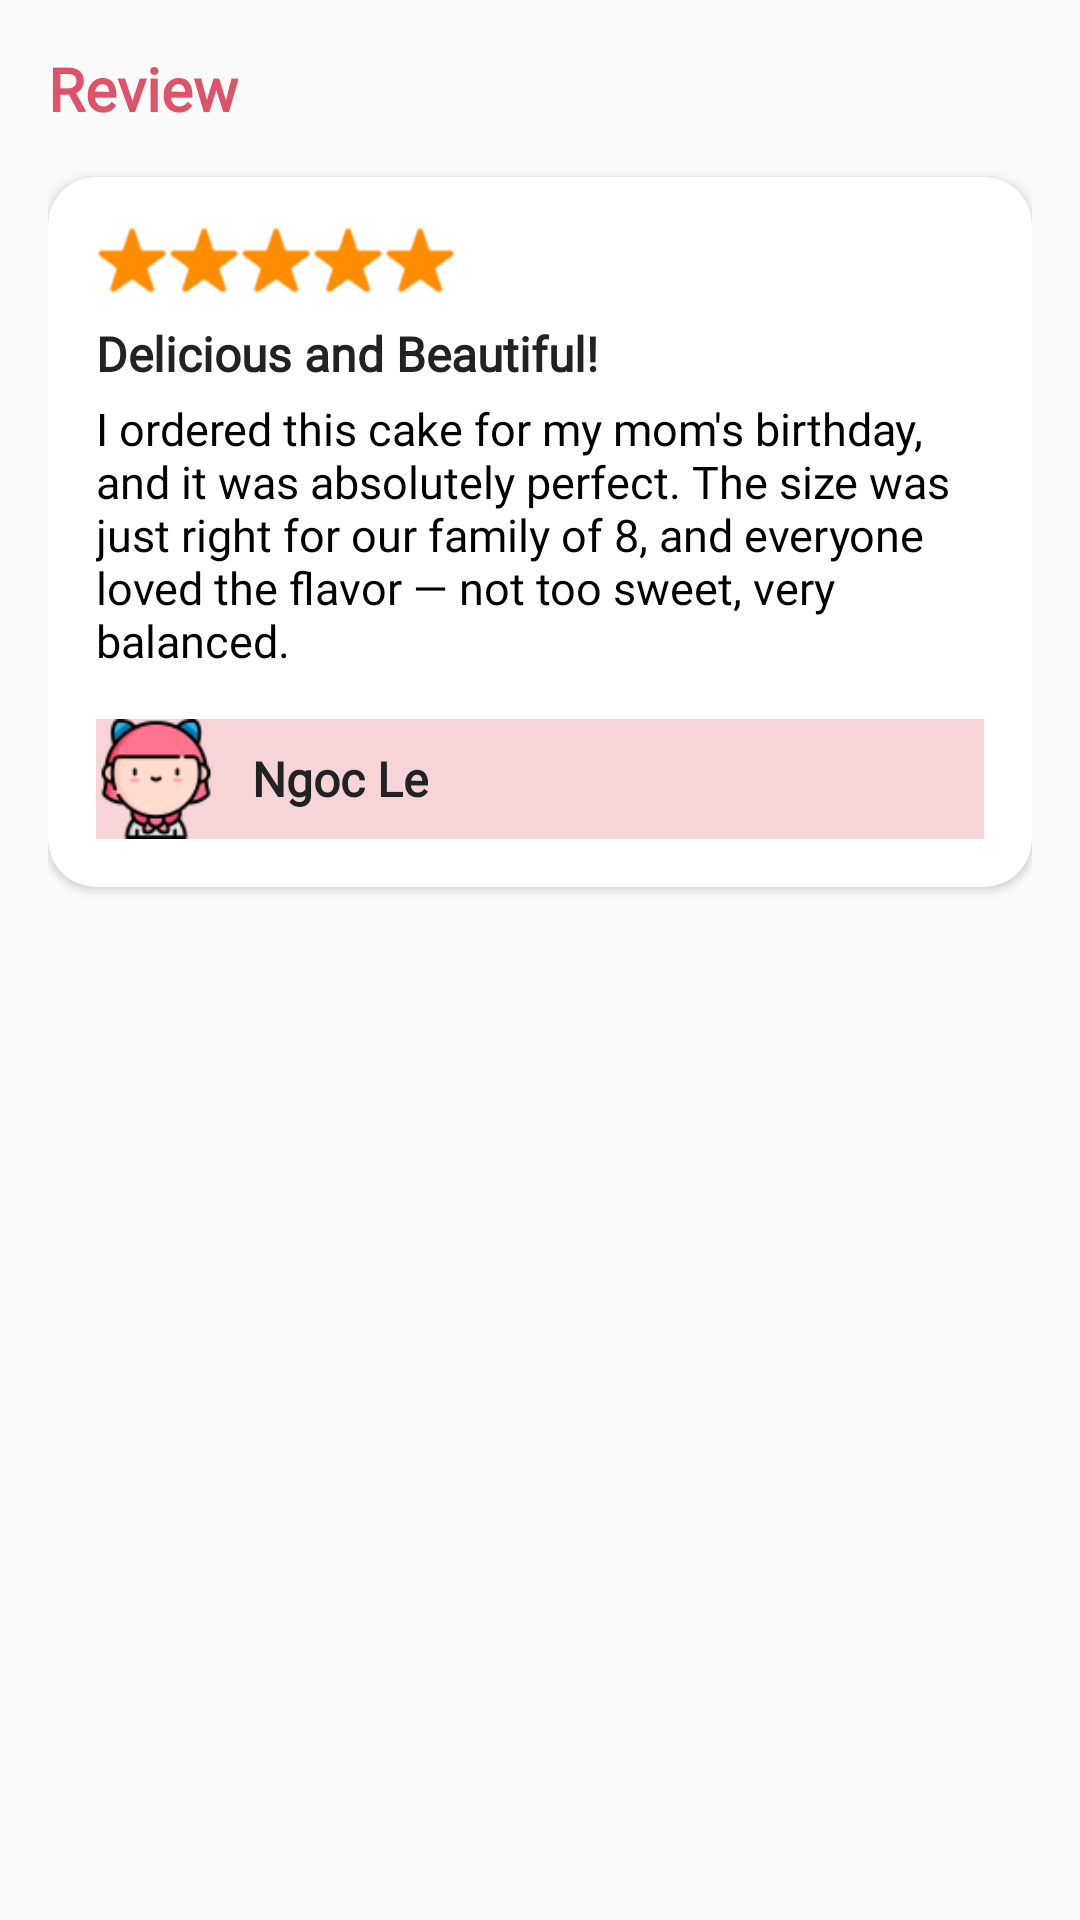

Named icons in this screenshot (1080 x 1920) and their centers, point (x, y):
star: point (132, 260), point (204, 260), point (276, 260), point (348, 260), point (420, 260)
